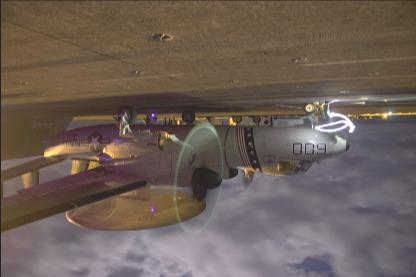C5: (1, 102, 349, 233)
